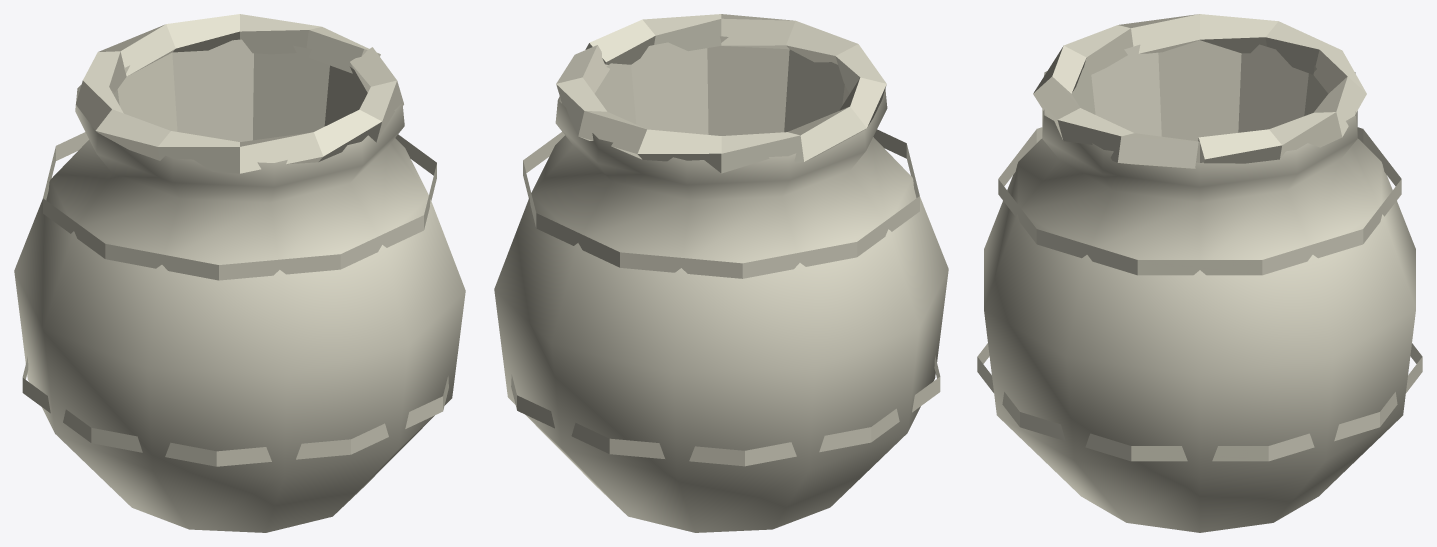
The model's file is item_046_milk_s.glb.
3 renders of one model, left to right at view 1: azimuth 30°, elevation 25°; view 2: azimuth 150°, elevation 25°; view 3: azimuth 270°, elevation 25°, orthographic.
Parts seen in each view (by area): view 1: item_046_milk_s; view 2: item_046_milk_s; view 3: item_046_milk_s.
Boxes of the visible parts, left/top/right/bottom form: item_046_milk_s: left=14, top=14, right=465, bottom=532; item_046_milk_s: left=494, top=14, right=948, bottom=532; item_046_milk_s: left=977, top=14, right=1422, bottom=532.
Bounding box in the file's own units: 0.32 × 0.3136 × 0.3133.
